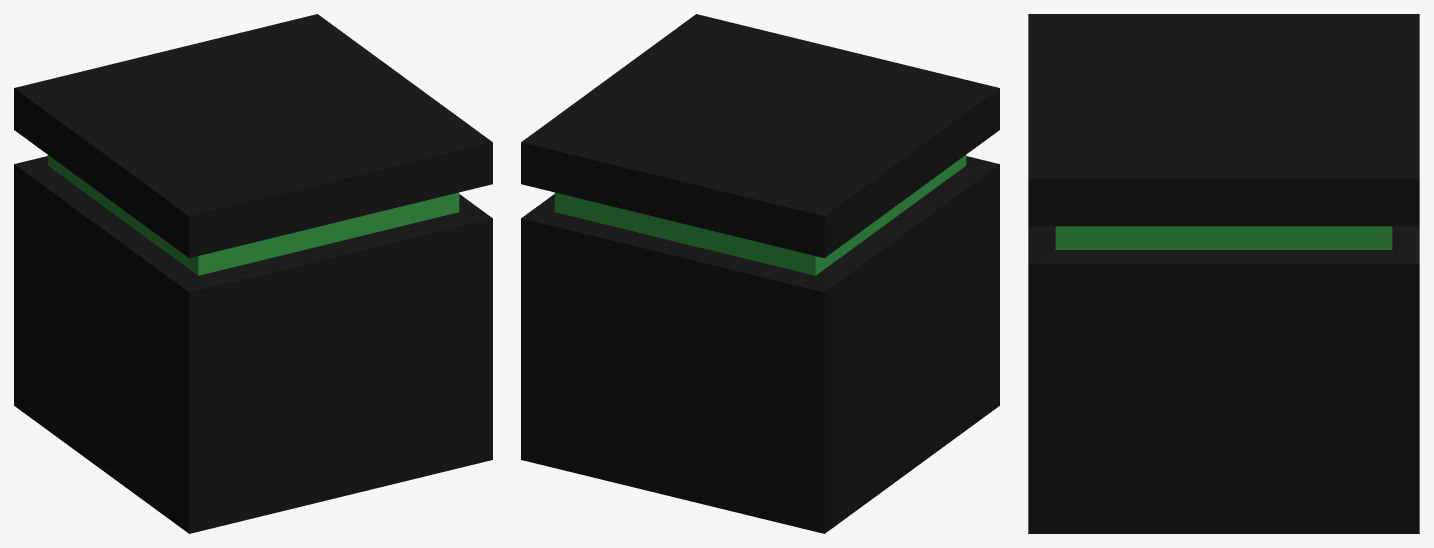
The model's file is container.obj.
3 views of the same model, side by side, from view 1: azimuth 30°, elevation 25°; view 2: azimuth 150°, elevation 25°; view 3: azimuth 270°, elevation 25° (orthographic). The views are drawn at different scales.
Visible parts, largest first — view 1: Cube.003_Cube; view 2: Cube.003_Cube; view 3: Cube.003_Cube.
Boxes of the visible parts, x1,y1,x2,y2 form: Cube.003_Cube: (14, 14, 492, 533); Cube.003_Cube: (521, 14, 999, 533); Cube.003_Cube: (1028, 14, 1419, 533).
Size of the model in its own units: 2 by 2 by 2.
